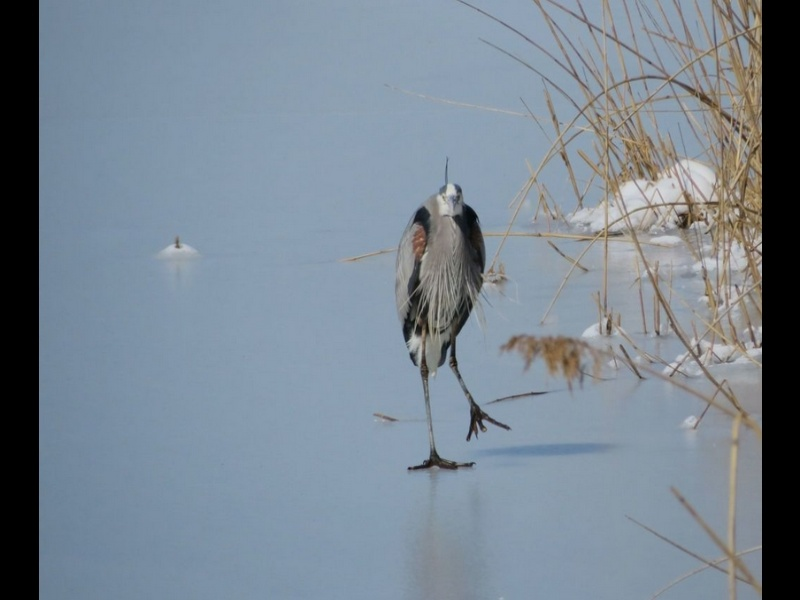heron: (390, 163, 512, 482)
